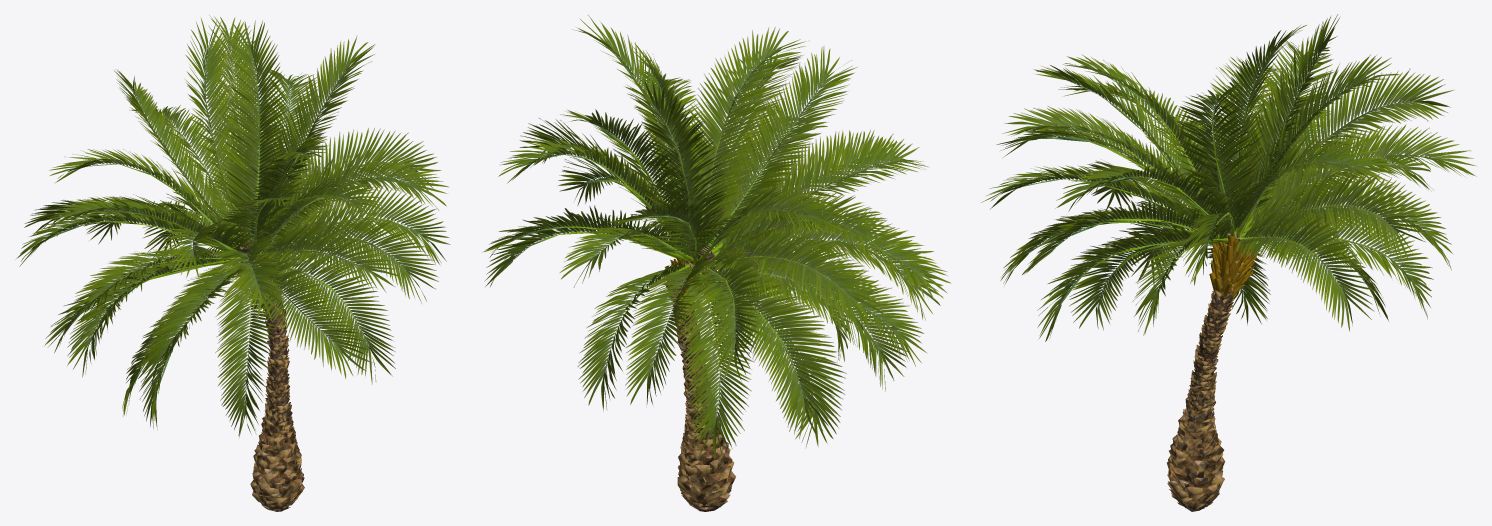
The model's file is phoenix_1.glb.
3 renders of one model, left to right at view 1: azimuth 30°, elevation 25°; view 2: azimuth 150°, elevation 25°; view 3: azimuth 270°, elevation 25°, orthographic. The views are drawn at different scales.
Parts seen in each view (by area): view 1: Phoenix_Sylvestris_Small03; view 2: Phoenix_Sylvestris_Small03; view 3: Phoenix_Sylvestris_Small03.
Part boxes in pixels (left/top/right/bottom): Phoenix_Sylvestris_Small03: left=15, top=15, right=450, bottom=511; Phoenix_Sylvestris_Small03: left=482, top=14, right=951, bottom=511; Phoenix_Sylvestris_Small03: left=981, top=14, right=1476, bottom=511.
Size of the model in its own units: 8.42 by 9.51 by 8.71.
Materials: 6 (6 with a texture image).
